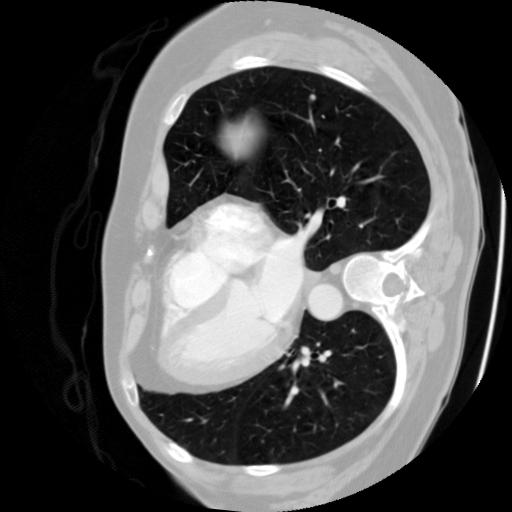nodule: (306, 89, 320, 103)
